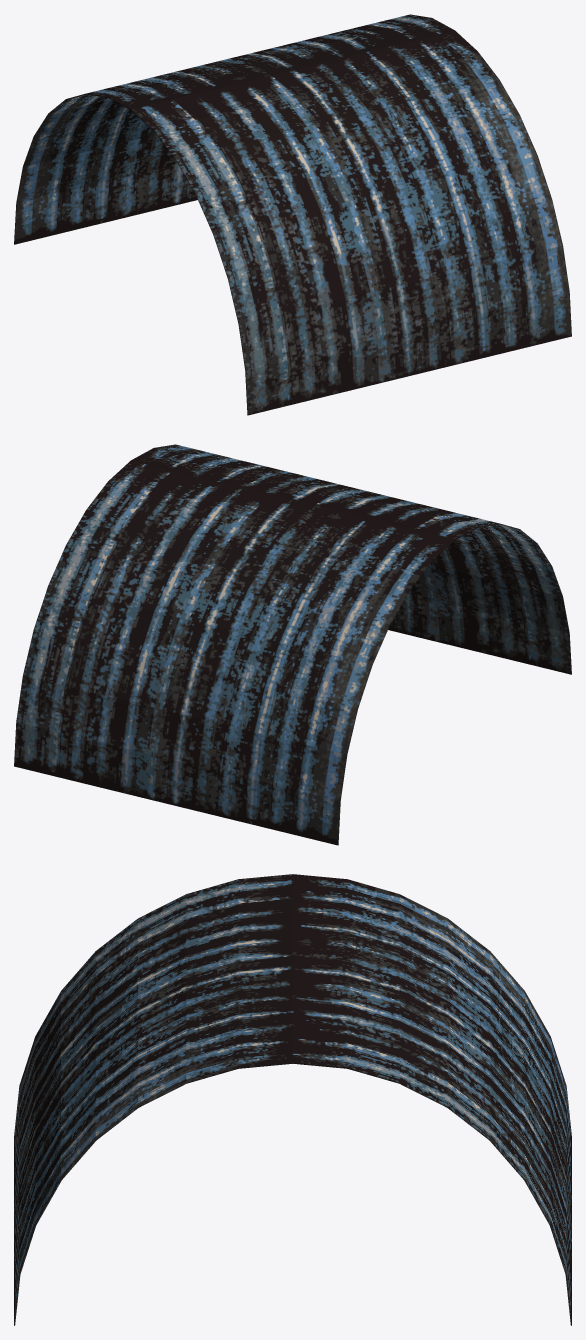
Rendered from SM_EU_MetalTunnel_Small_1.001.fbx.
3 views of the same model, one above another, from view 1: azimuth 30°, elevation 25°; view 2: azimuth 150°, elevation 25°; view 3: azimuth 270°, elevation 25° (orthographic). The views are drawn at different scales.
Parts seen in each view (by area): view 1: SM_EU_MetalTunnel_Small_1.001; view 2: SM_EU_MetalTunnel_Small_1.001; view 3: SM_EU_MetalTunnel_Small_1.001.
Part boxes in pixels (x1=…): SM_EU_MetalTunnel_Small_1.001: x1=14, y1=14, x2=571, y2=415; SM_EU_MetalTunnel_Small_1.001: x1=14, y1=444, x2=571, y2=845; SM_EU_MetalTunnel_Small_1.001: x1=14, y1=874, x2=571, y2=1325.
Bounding box in the file's own units: 4 × 5 × 2.6.
